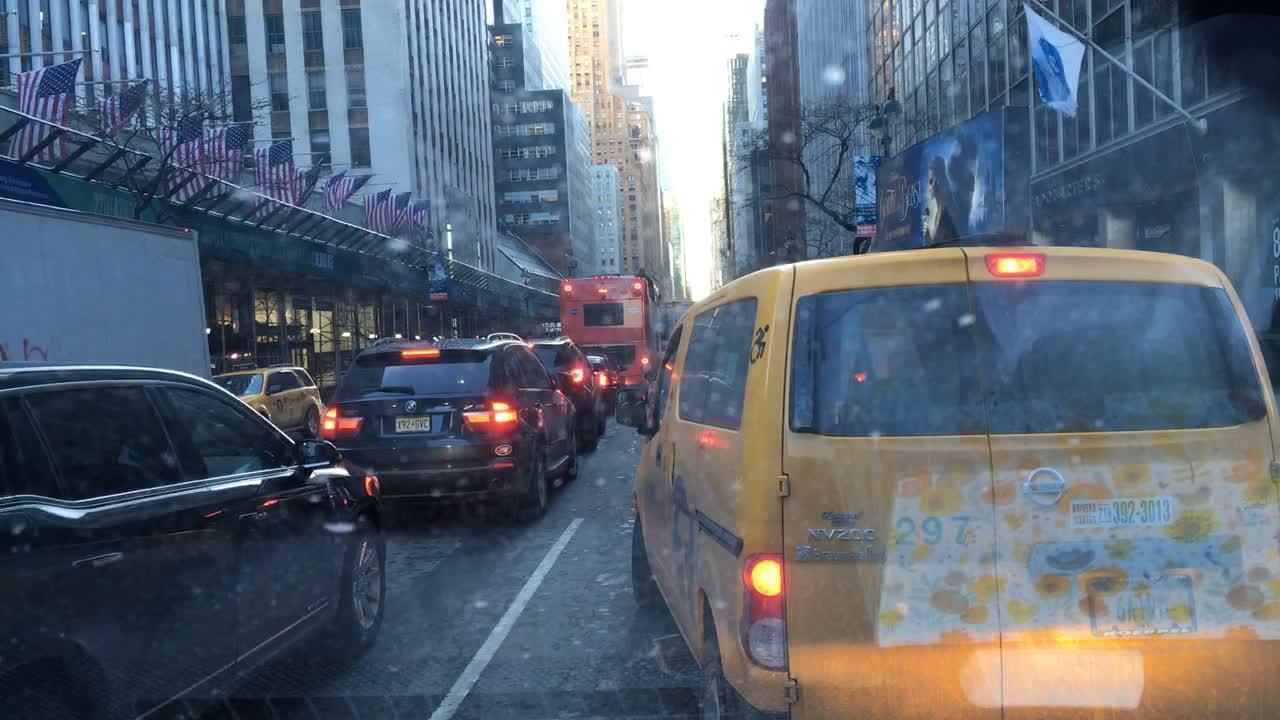Nissan: (1022, 464, 1068, 512)
bmw: (401, 397, 421, 418)
